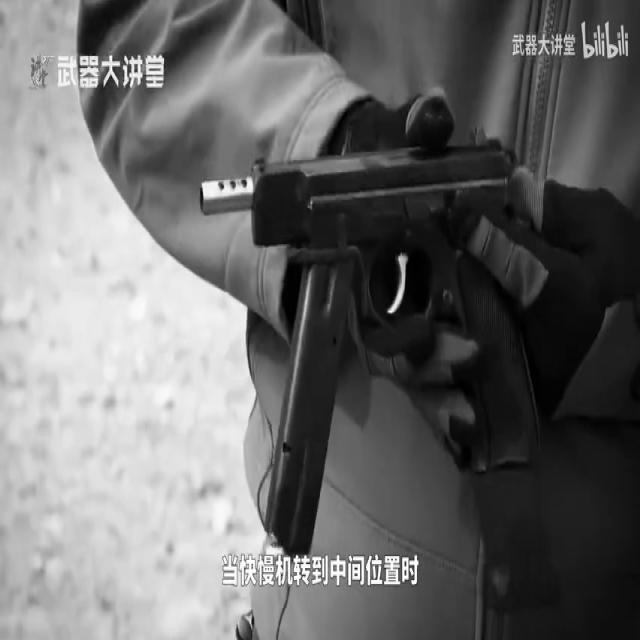Sub-machine-gun: (174, 0, 592, 584)
